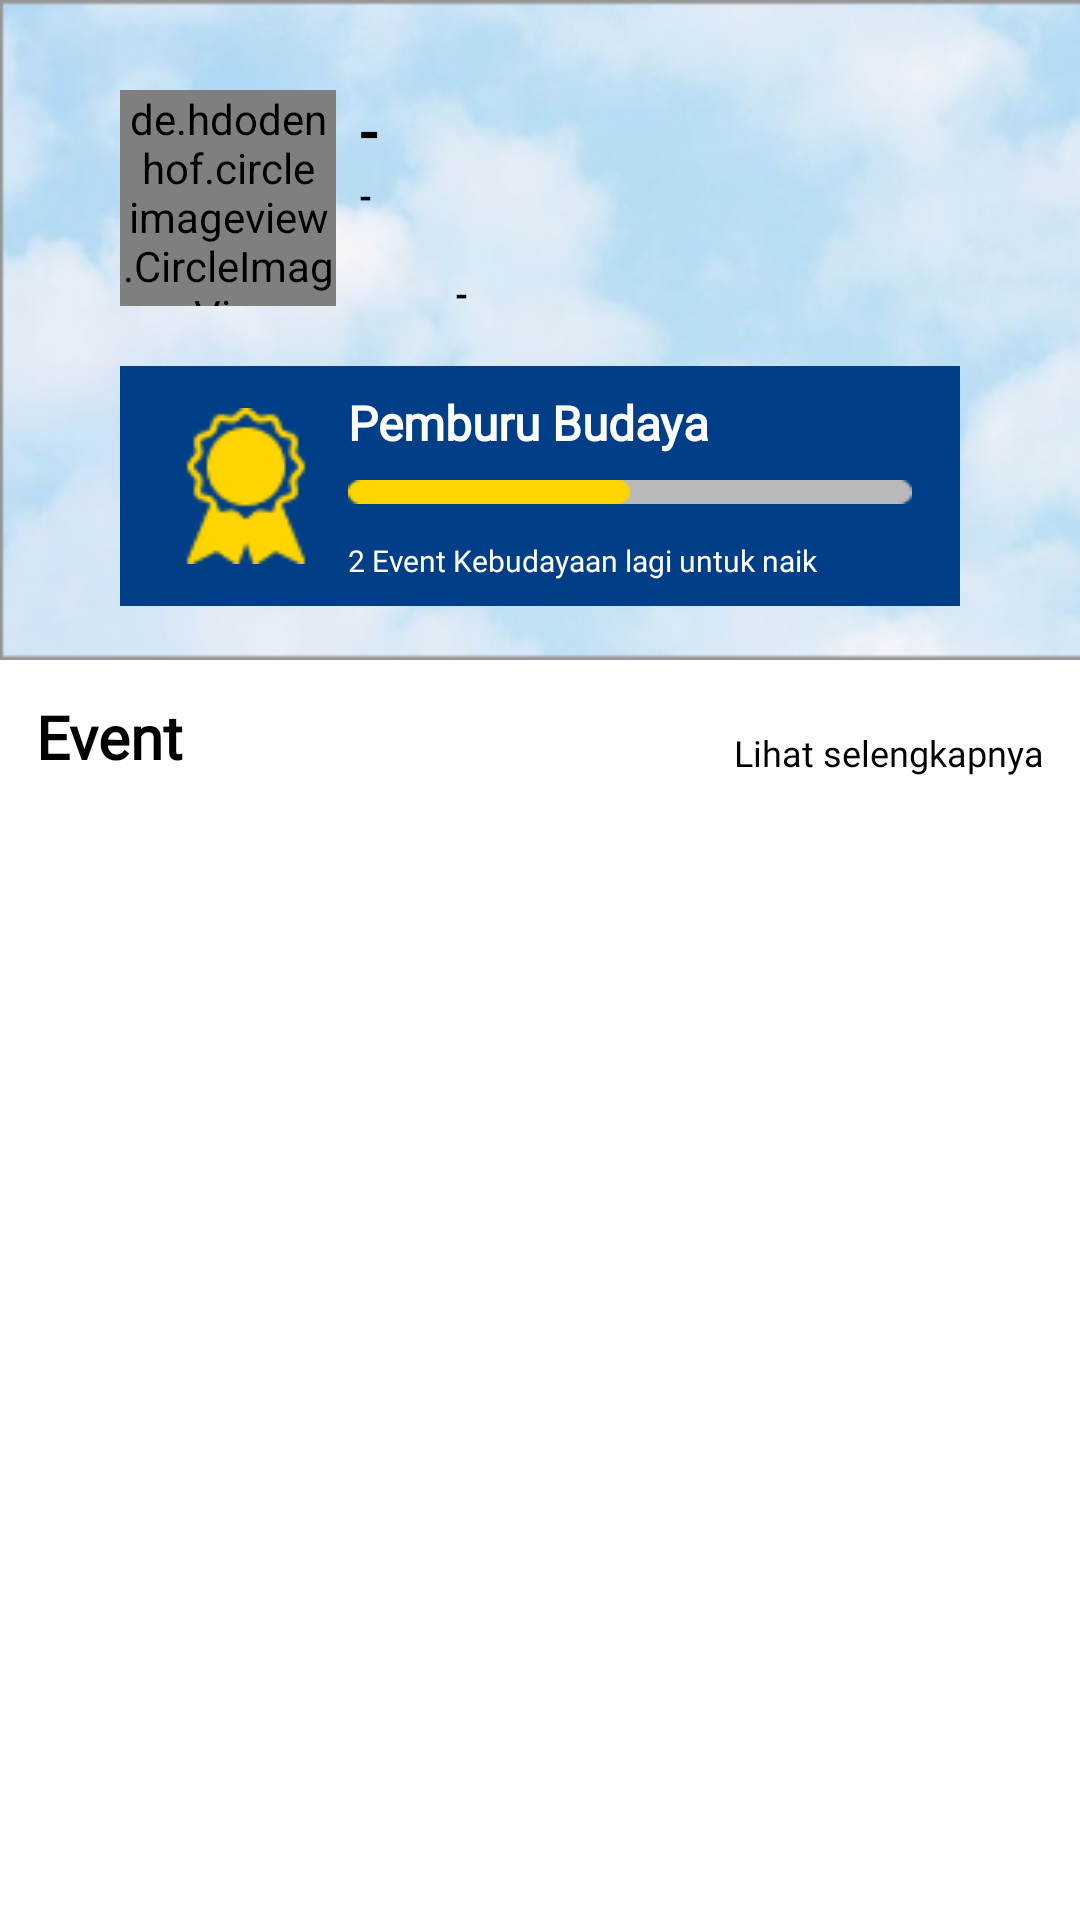

Icon bounding boxes for this 1080 × 1920 phone screenshot, format {"left": x1, "top": y1, "right": x2, "bottom": y2}:
award: {"left": 186, "top": 408, "right": 306, "bottom": 564}
